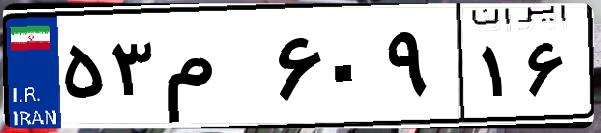0: (330, 28, 385, 110)
1: (475, 38, 525, 113)
3: (110, 28, 158, 98)
5: (57, 26, 110, 100)
6: (270, 28, 330, 110), (525, 38, 570, 115)
9: (385, 28, 445, 110)
م: (158, 20, 270, 120)
